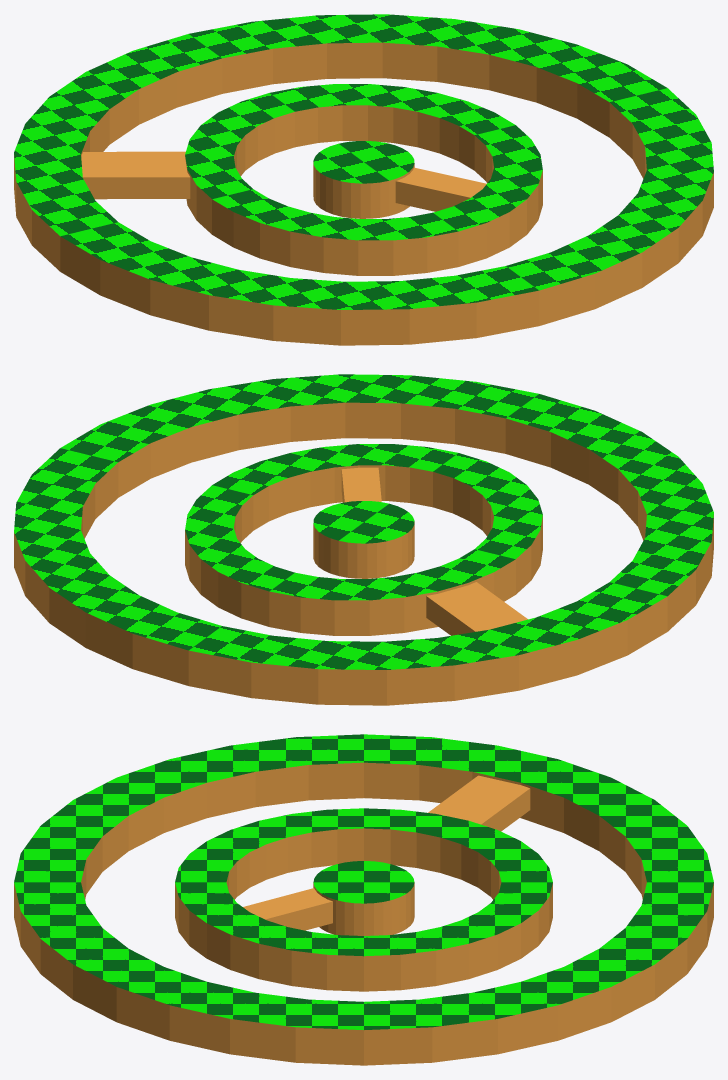
3 views of the same model, one above another, from view 1: azimuth 30°, elevation 25°; view 2: azimuth 150°, elevation 25°; view 3: azimuth 270°, elevation 25° (orthographic).
Parts seen in each view (by area): view 1: Circle, Circle.001, Circle.002, Cube, Cube.001; view 2: Circle, Circle.001, Circle.002, Cube, Cube.001; view 3: Circle, Circle.001, Circle.002, Cube, Cube.001.
Boxes of the visible parts, x1,y1,x2,y2 form: Circle: (14, 14, 713, 345); Circle.001: (185, 84, 542, 275); Circle.002: (313, 141, 414, 218); Cube: (81, 151, 190, 199); Cube.001: (395, 167, 486, 211); Circle: (14, 374, 713, 705); Circle.001: (185, 444, 542, 635); Circle.002: (313, 501, 414, 578); Cube: (426, 582, 527, 635); Cube.001: (341, 467, 381, 502); Circle: (14, 734, 713, 1065); Circle.001: (175, 808, 552, 991); Circle.002: (313, 861, 414, 935); Cube: (428, 775, 530, 831); Cube.001: (243, 888, 332, 930).
Size of the model in its own units: 78.3 by 4.38 by 78.3.
Materials: 2 (2 with a texture image).
